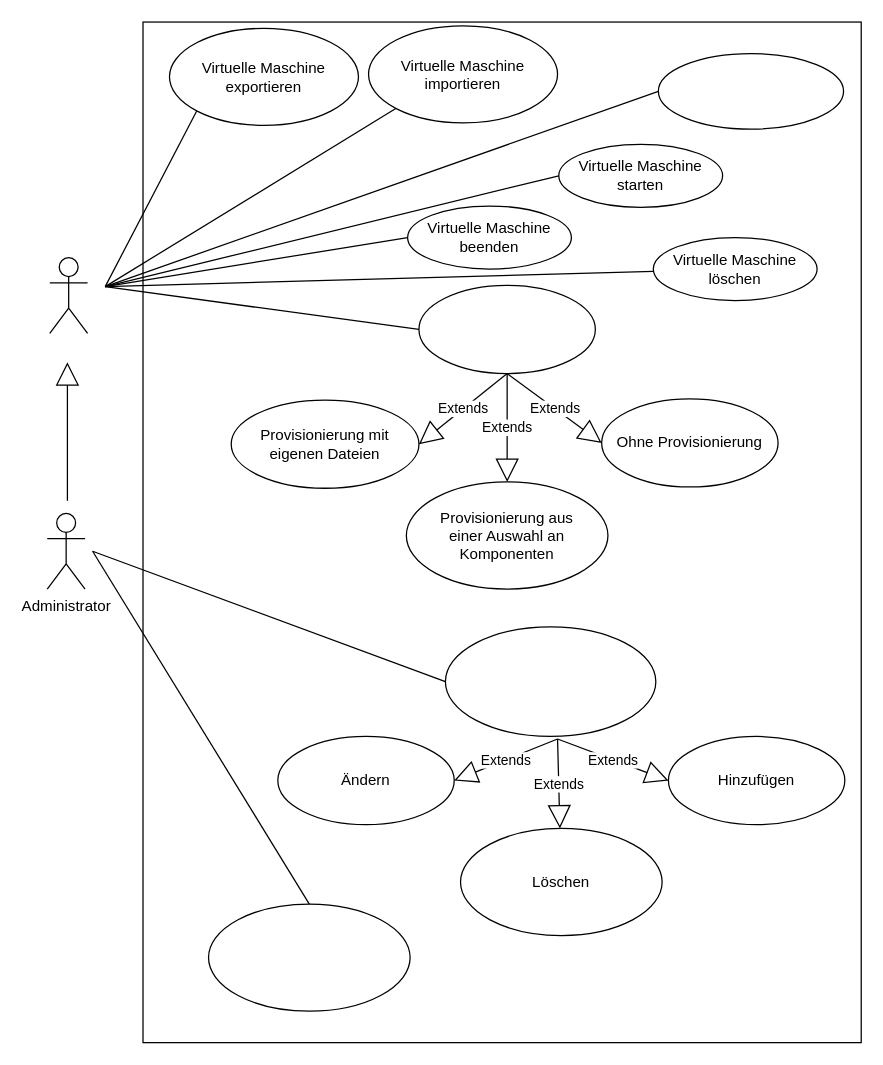
Some shapes in this 883 by 1065 pixel diagram are drawn without their labels. Each missing label, with the centre of its shape:
Anwender: pixel 68 294
Anwendungseinstellungen bearbeiten: pixel 308 957
Softwarebestand verwalten: pixel 550 681
Virtuelle Maschine erstellen: pixel 506 329
Virtuelle Maschine über das Internet teilen: pixel 750 90
